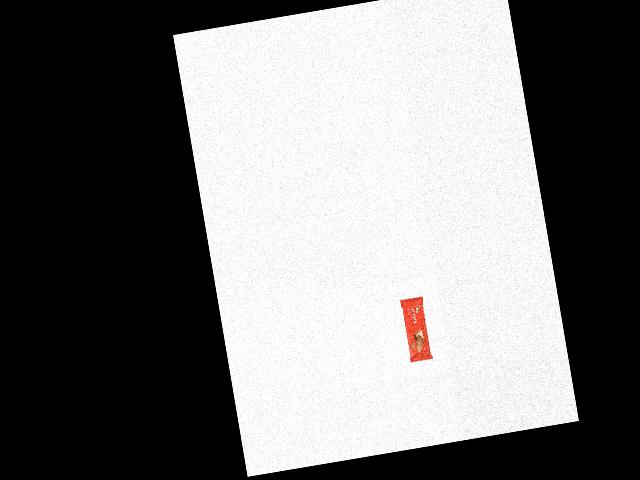chocolate: (399, 293, 432, 362)
